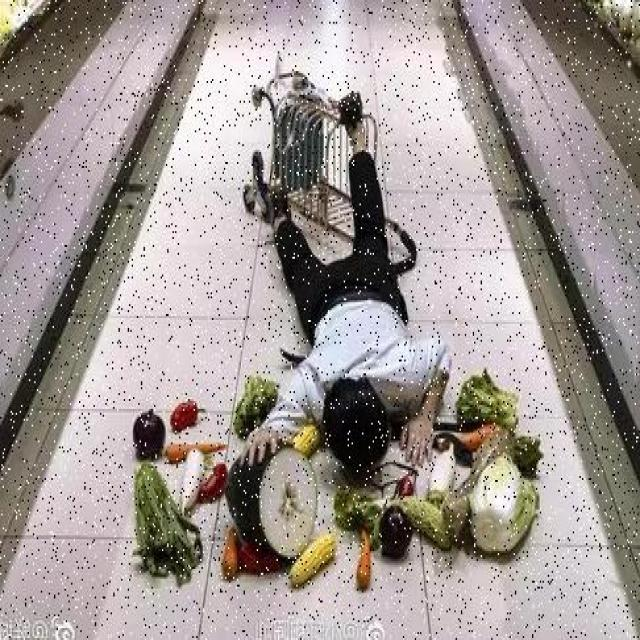fall: (256, 89, 434, 456)
